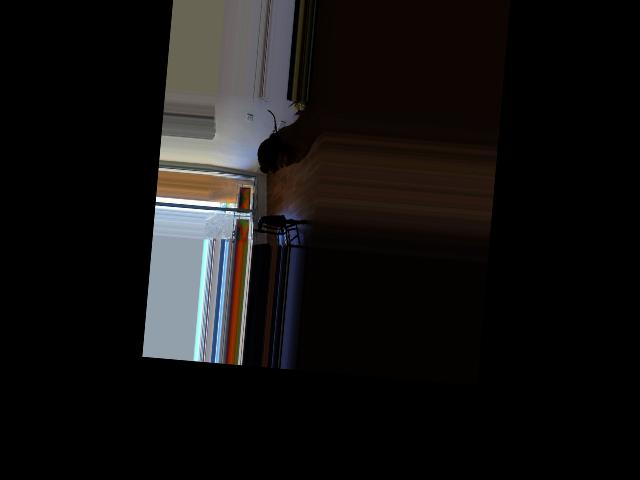beet: (256, 110, 282, 175)
